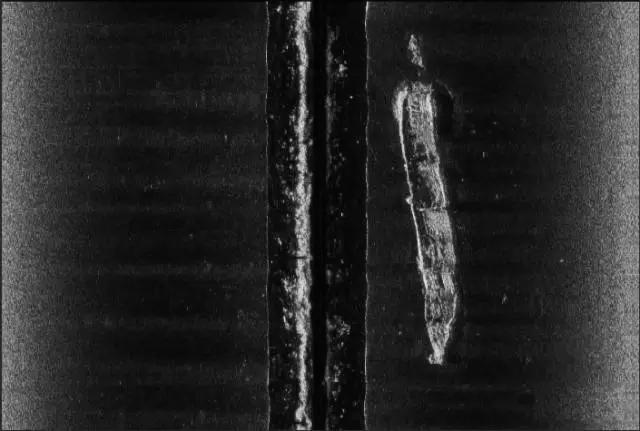ship: (390, 81, 471, 369)
